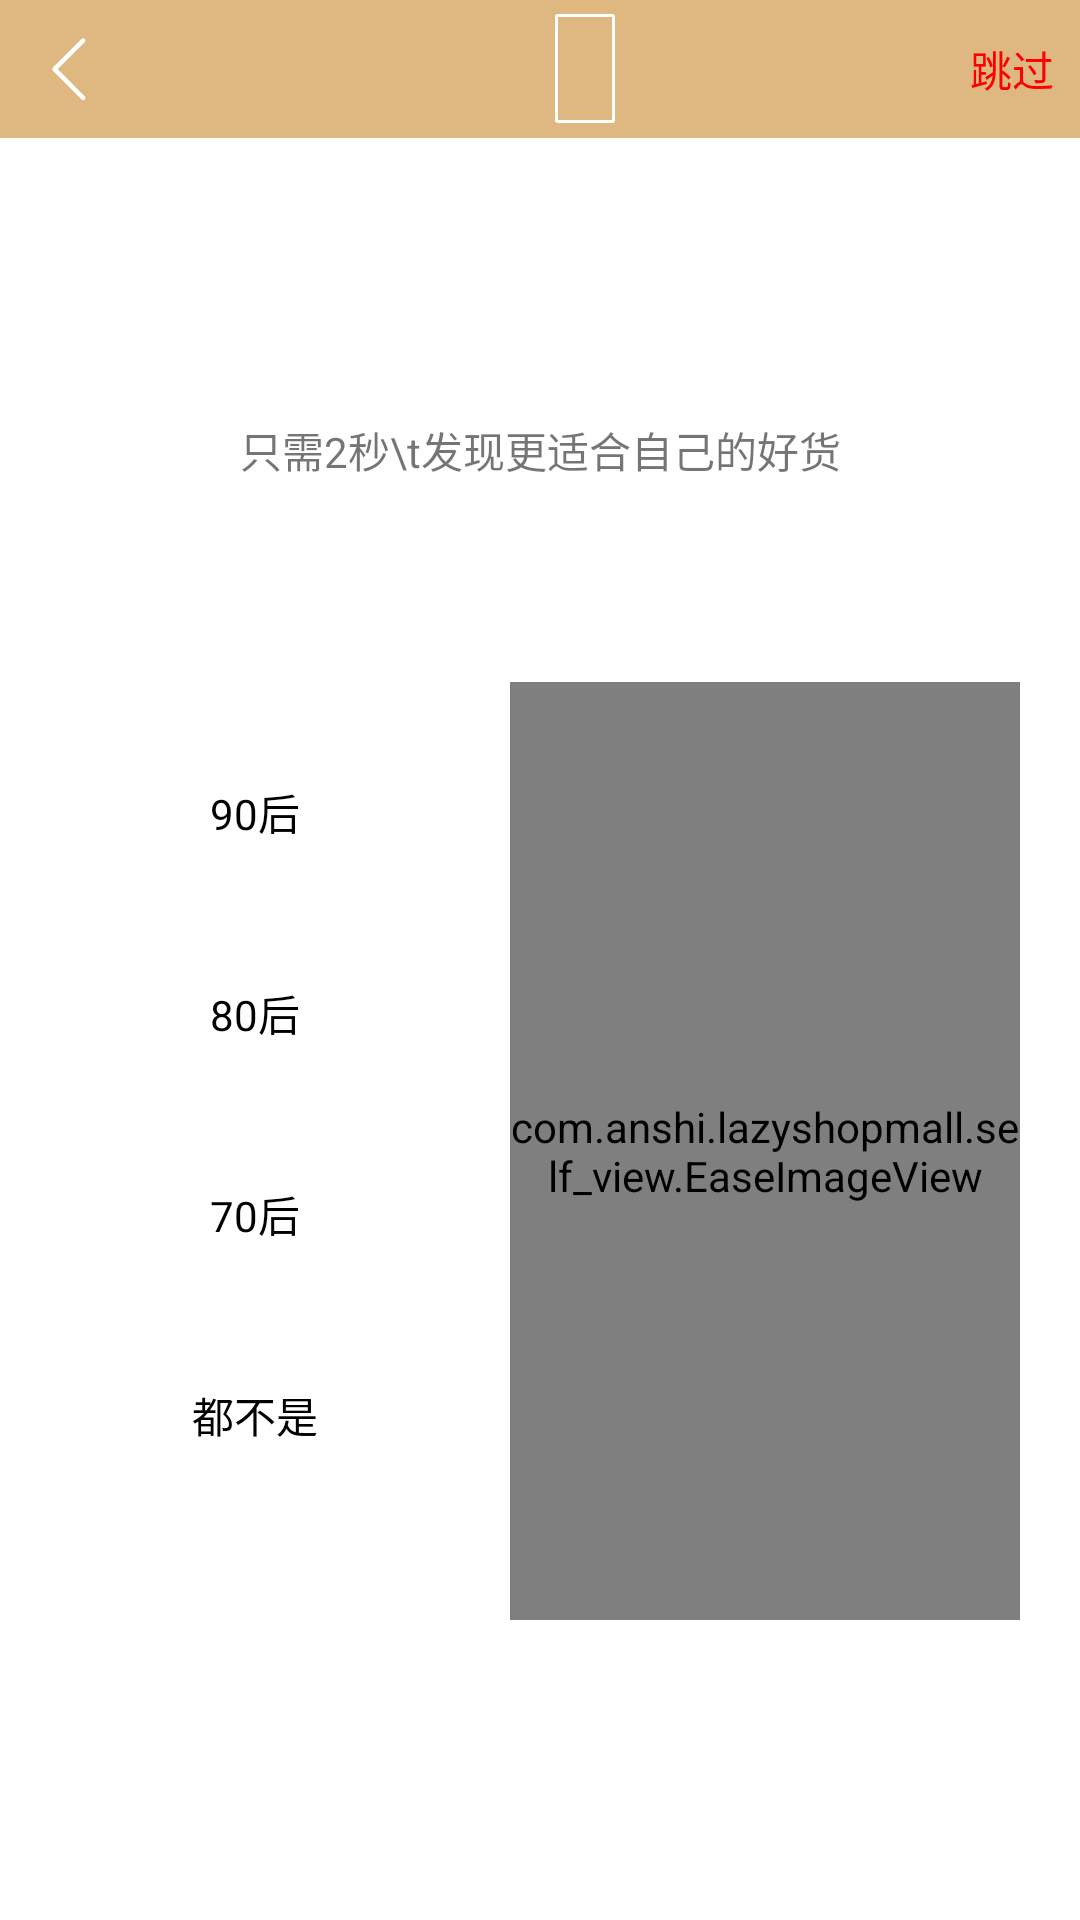

Where icons sit on this 1080x1920 app screen, as bbox(x1, y1, x2, y2):
back sting: bbox(52, 38, 86, 101)
